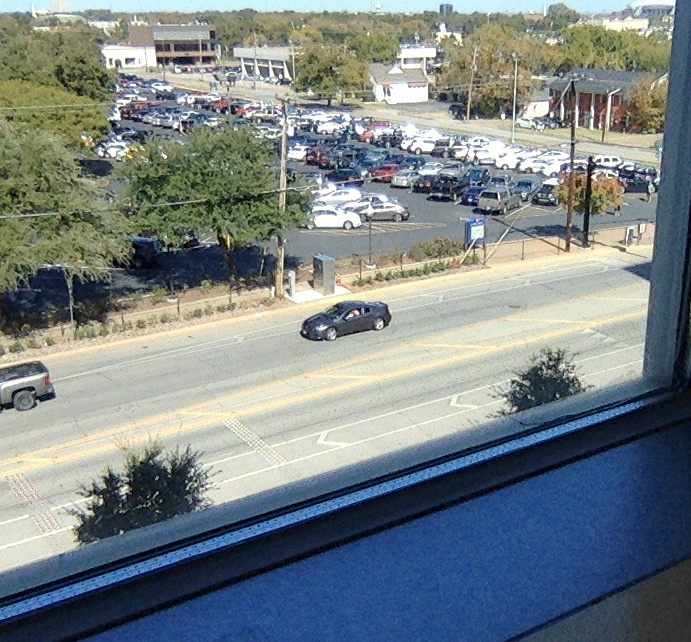car: (300, 300, 391, 342)
